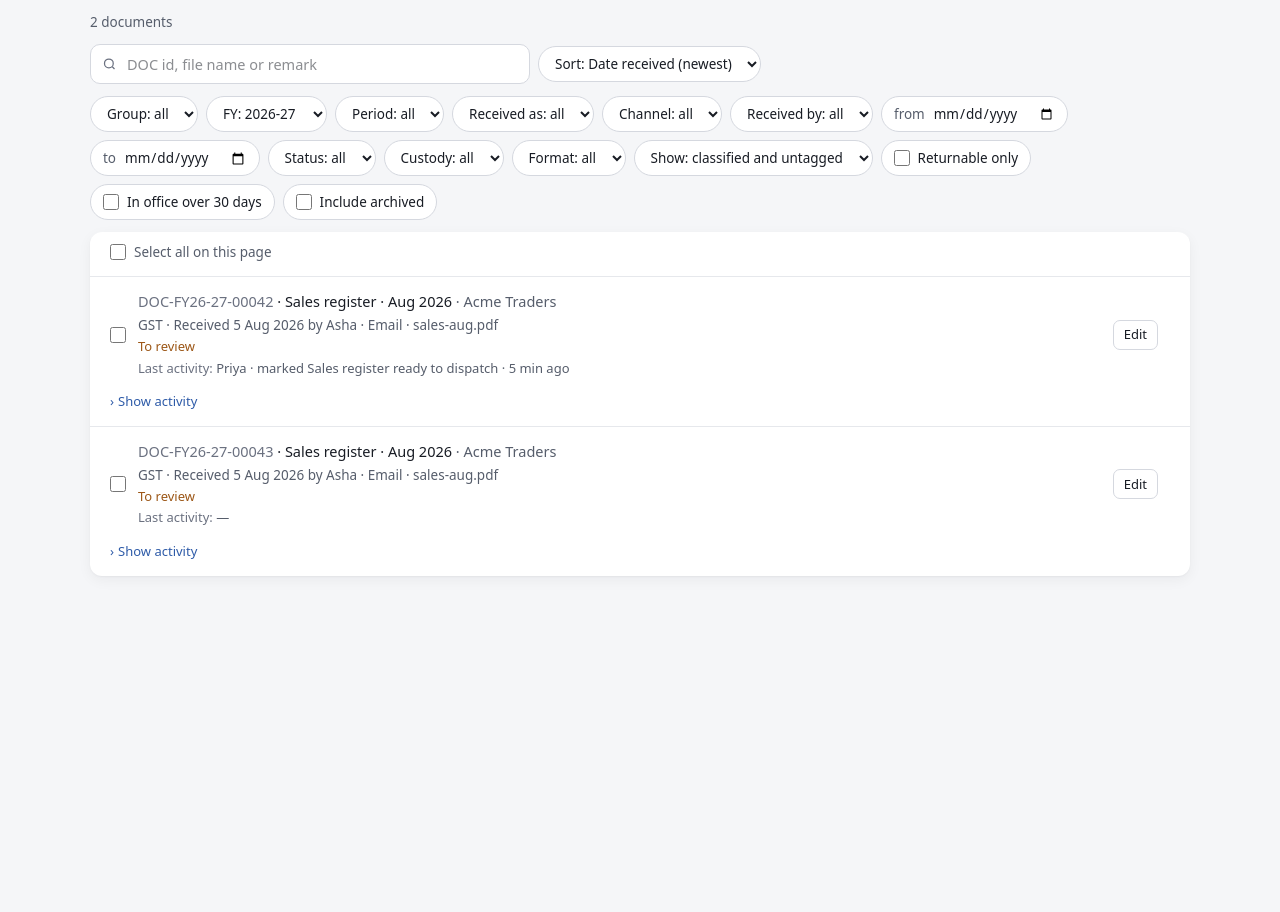
Scenario: expanded row (AC-7) › toggle with aria-expanded loads 5 events once, and See all opens the document's Activity
Step 1. Click the button with aria-label "Show activity for DOC-FY26-27-00042" → [154, 402], box [110,392,197,412]
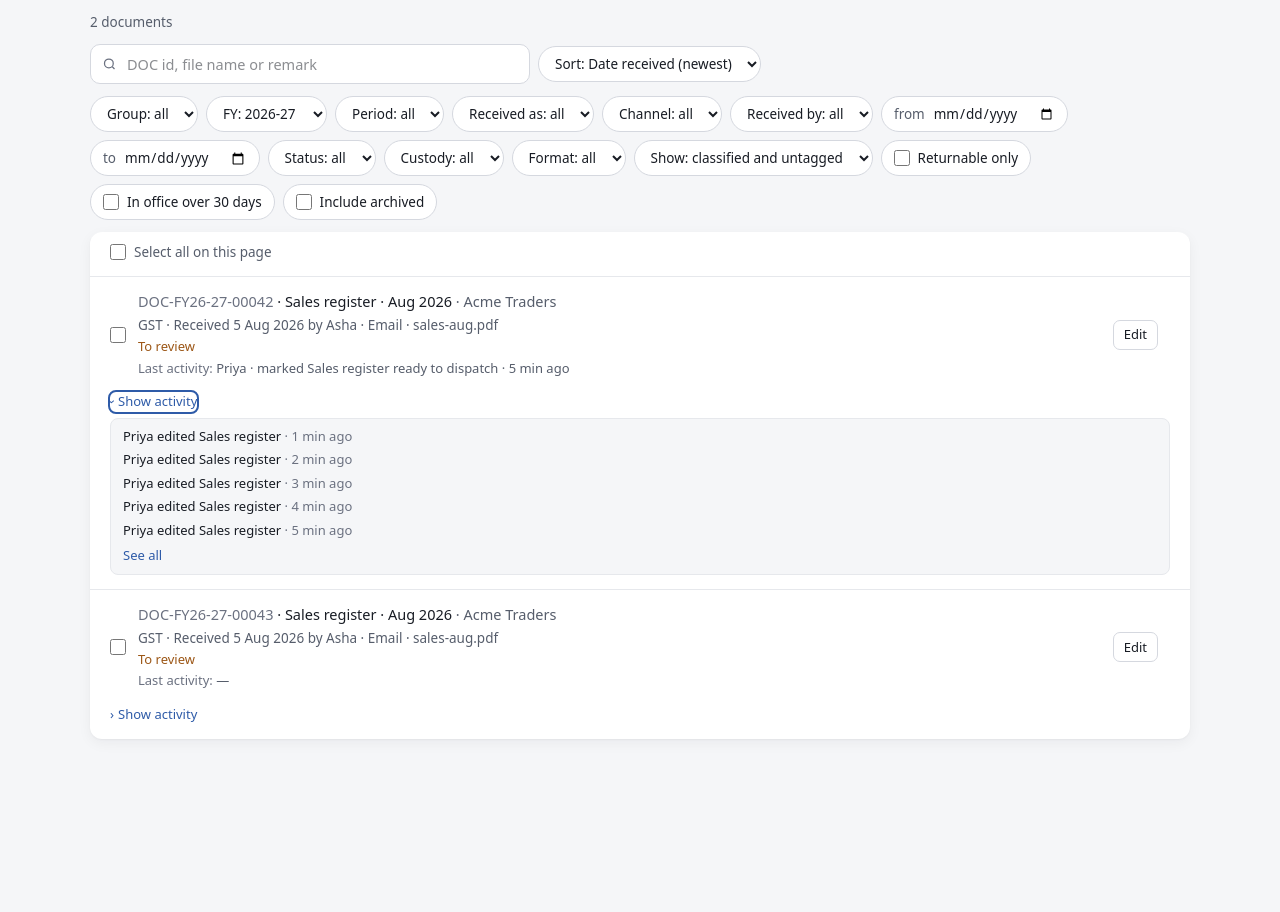
Expected: the button with aria-label "Show activity for DOC-FY26-27-00042" is expanded
Expected: the number of list items "Priya edited Sales register · 1 min ago" is 5, [123,427,352,445]; [123,450,352,468]; [123,474,352,492]; [123,497,352,515]; [123,521,352,539]
Step 2. Click the button with aria-label "Show activity for DOC-FY26-27-00042" → [154, 402], box [110,392,197,412]
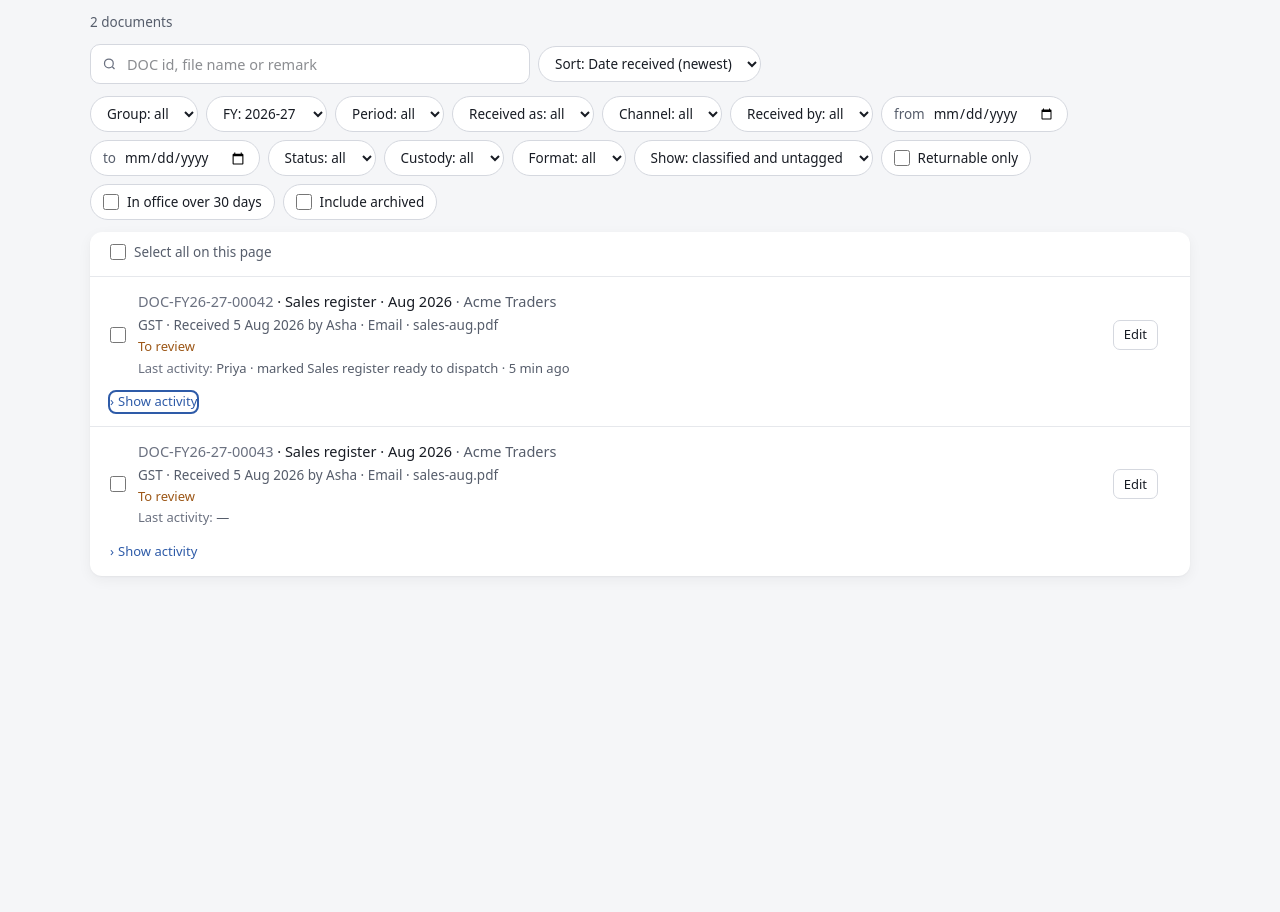
Step 3. Click the button with aria-label "Show activity for DOC-FY26-27-00042" → [154, 402], box [110,392,197,412]
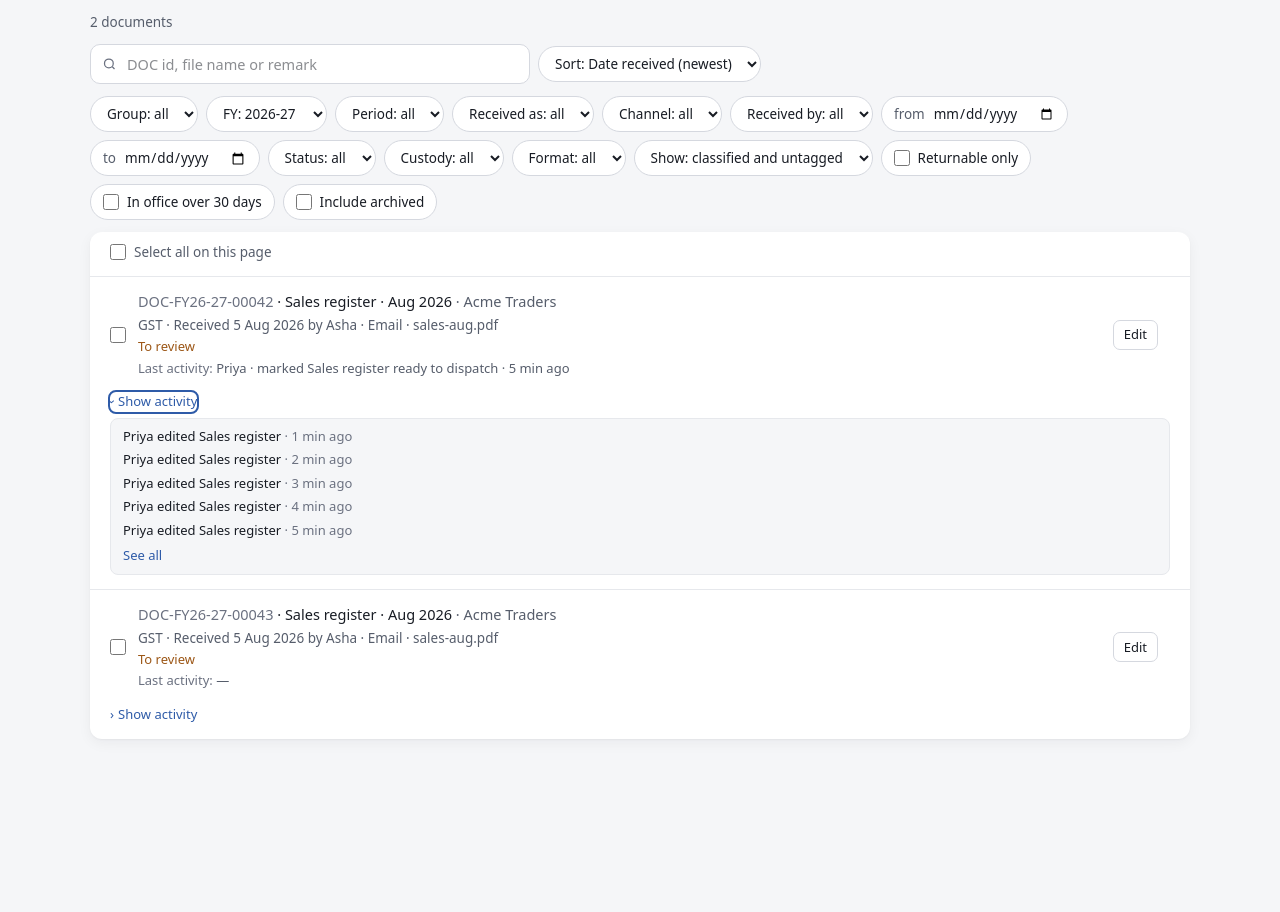
Expected: the list named "Activity of DOC-FY26-27-00042" is shown, [123,427,352,539]
